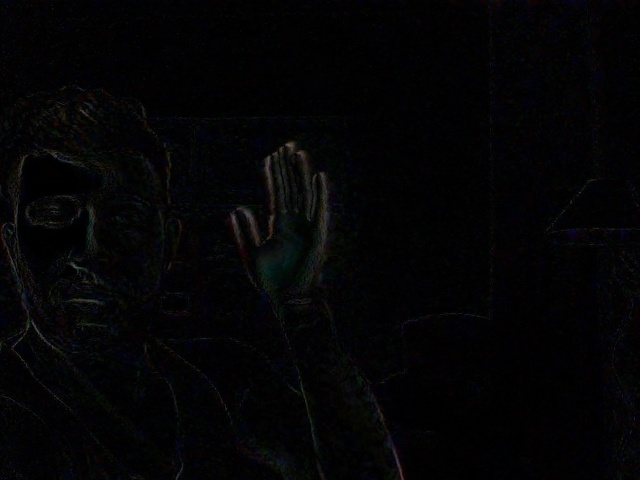arm_fo: (219, 134, 382, 452)
